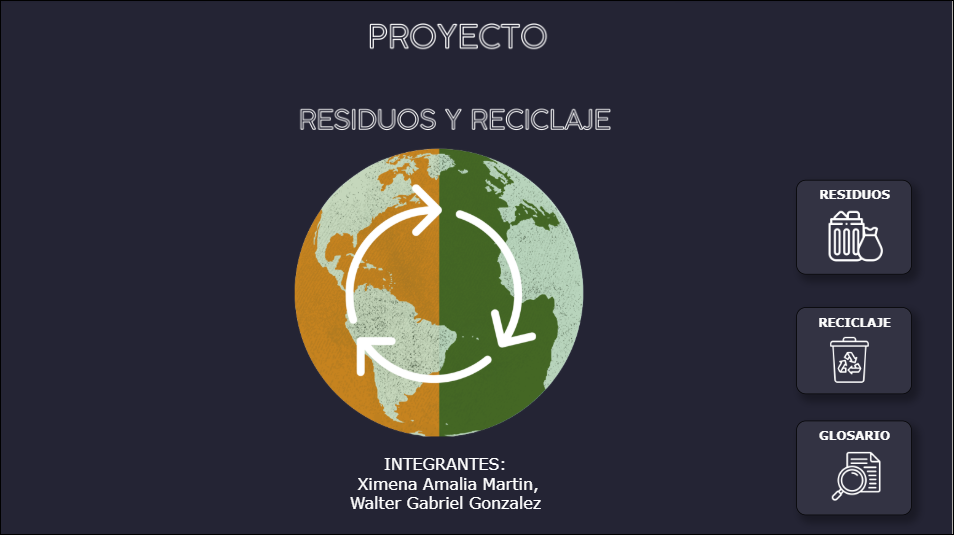

The dashboard page shown, as its layout file describes it:
{"tool":"powerbi","page":{"name":"PORTADA","canvas":[1280,720],"ordinal":0},"visuals":[{"type":"image","box":[65.6,0,1054.9,261.1],"z":0},{"type":"image","box":[376.9,180.1,432.2,412.9],"z":1000},{"type":"textbox","box":[1071.6,243.1,154.8,126.9],"z":2000,"group":"g2"},{"type":"group","id":"g1","title":"Grupo 2","box":[1071.6,566,154.4,126.1],"z":2000},{"type":"textbox","box":[1071.6,412.9,154.8,117.1],"z":2500,"group":"g4"},{"type":"textbox","box":[1071.6,566,154.8,126.9],"z":2500,"group":"g1"},{"type":"group","id":"g2","title":"Grupo 3","box":[1071.6,243.1,154.4,127.4],"z":3000},{"type":"image","box":[1107.9,278,87.8,82.3],"z":3000,"group":"g2"},{"type":"group","id":"g3","title":"Grupo 4","box":[1071.6,412.9,154.4,117.1],"z":4000},{"type":"group","id":"g4","title":"Grupo 1","box":[1071.6,412.9,154.8,117.1],"z":4000,"group":"g3"},{"type":"image","box":[1112,603.6,80.9,75.3],"z":5000,"group":"g1"},{"type":"image","box":[1107.9,439.4,71.1,90.6],"z":6000,"group":"g3"},{"type":"textbox","box":[323.5,606.5,561.9,112.9],"z":6000}]}

Visuals, with their boxes in screenshot pixels (x1, y1, x2, y2), scaled from the page's 1280x720 canvas onto the 954x535 screenshot:
image: <region>49, 0, 835, 194</region>
image: <region>281, 134, 603, 441</region>
textbox: <region>799, 181, 914, 275</region>
"Grupo 2" group: <region>799, 421, 914, 514</region>
textbox: <region>799, 307, 914, 394</region>
textbox: <region>799, 421, 914, 515</region>
"Grupo 3" group: <region>799, 181, 914, 275</region>
image: <region>826, 207, 891, 268</region>
"Grupo 4" group: <region>799, 307, 914, 394</region>
"Grupo 1" group: <region>799, 307, 914, 394</region>
image: <region>829, 449, 889, 504</region>
image: <region>826, 326, 879, 394</region>
textbox: <region>241, 451, 660, 534</region>
